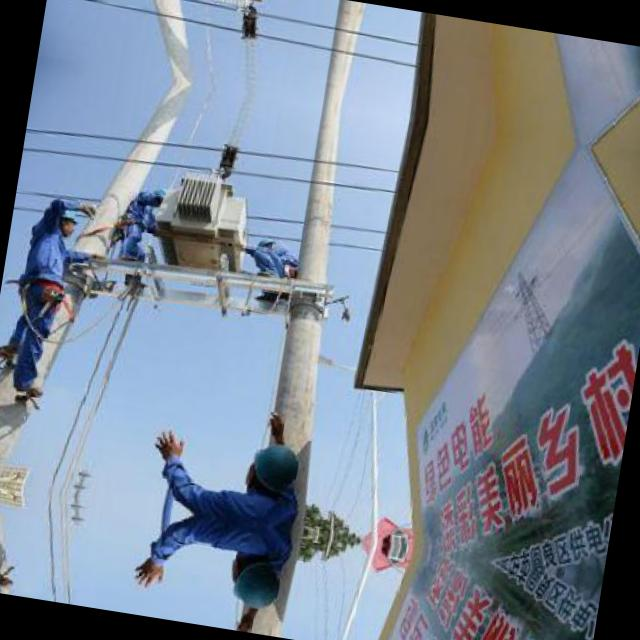helmet: (222, 548, 289, 613), (240, 436, 306, 501), (54, 204, 80, 237), (255, 230, 279, 253)
